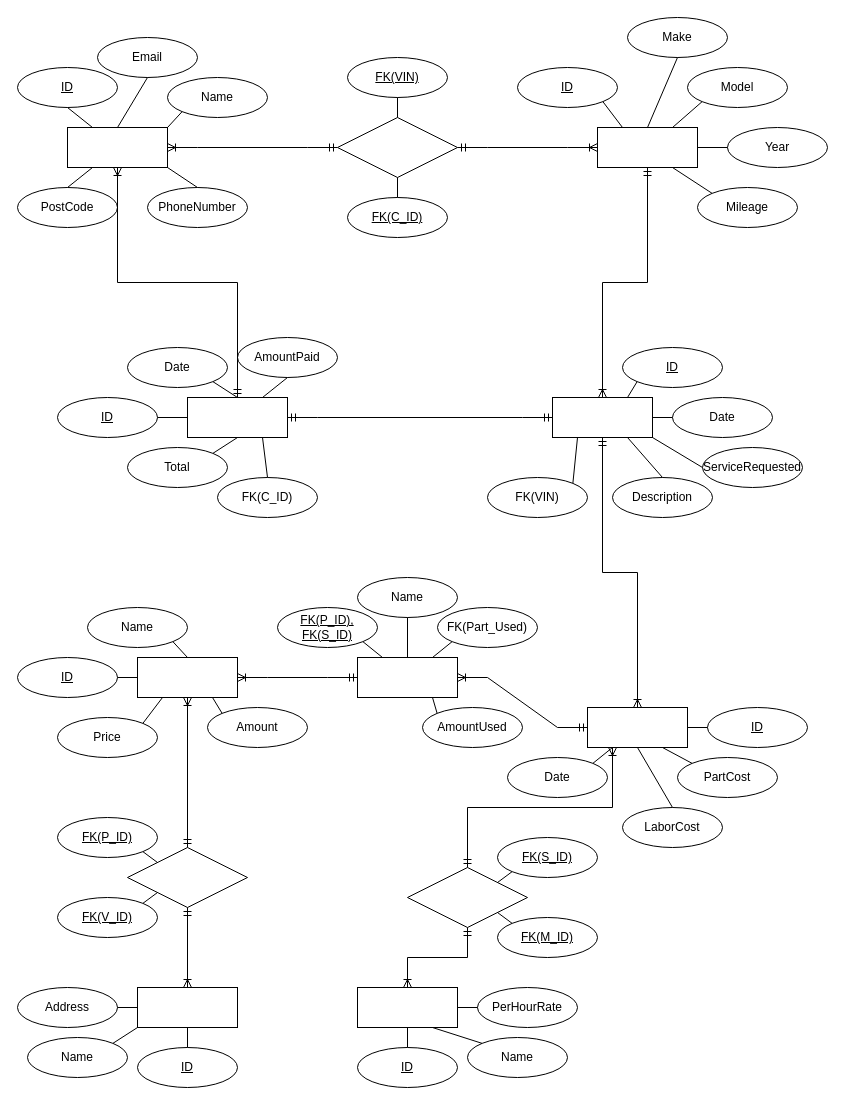
The diagram is 845 pixels wide and 1105 high, and some of its shapes have lost their labels. The centre of each missing label's shape, as x and y in pixels:
"Bill" belongs at [237,417].
"Car" belongs at [647,147].
"Customer" belongs at [117,147].
"Has" belongs at [397,147].
"Mechanic" belongs at [407,1007].
"Part" belongs at [187,677].
"Preforms" belongs at [467,897].
"Service" belongs at [637,727].
"Service Record" belongs at [407,677].
"Supplies" belongs at [187,877].
"Ticket" belongs at [602,417].
"Vendor" belongs at [187,1007].
